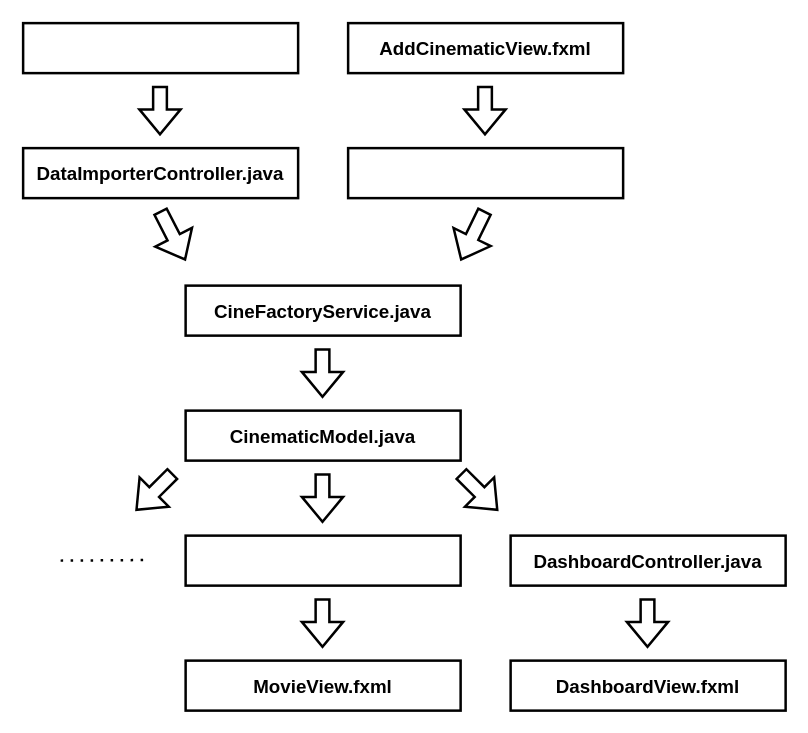
This 808x733 diagram has some shape labels left out. The shapes that lost their labels are listed below. From the top down, each one's centre as x and y in pixels, then its label:
At [160,47]: "DataImporterView.fxml".
At [485,172]: "AddCinematicController .java".
At [322,560]: "MovieController.java".
